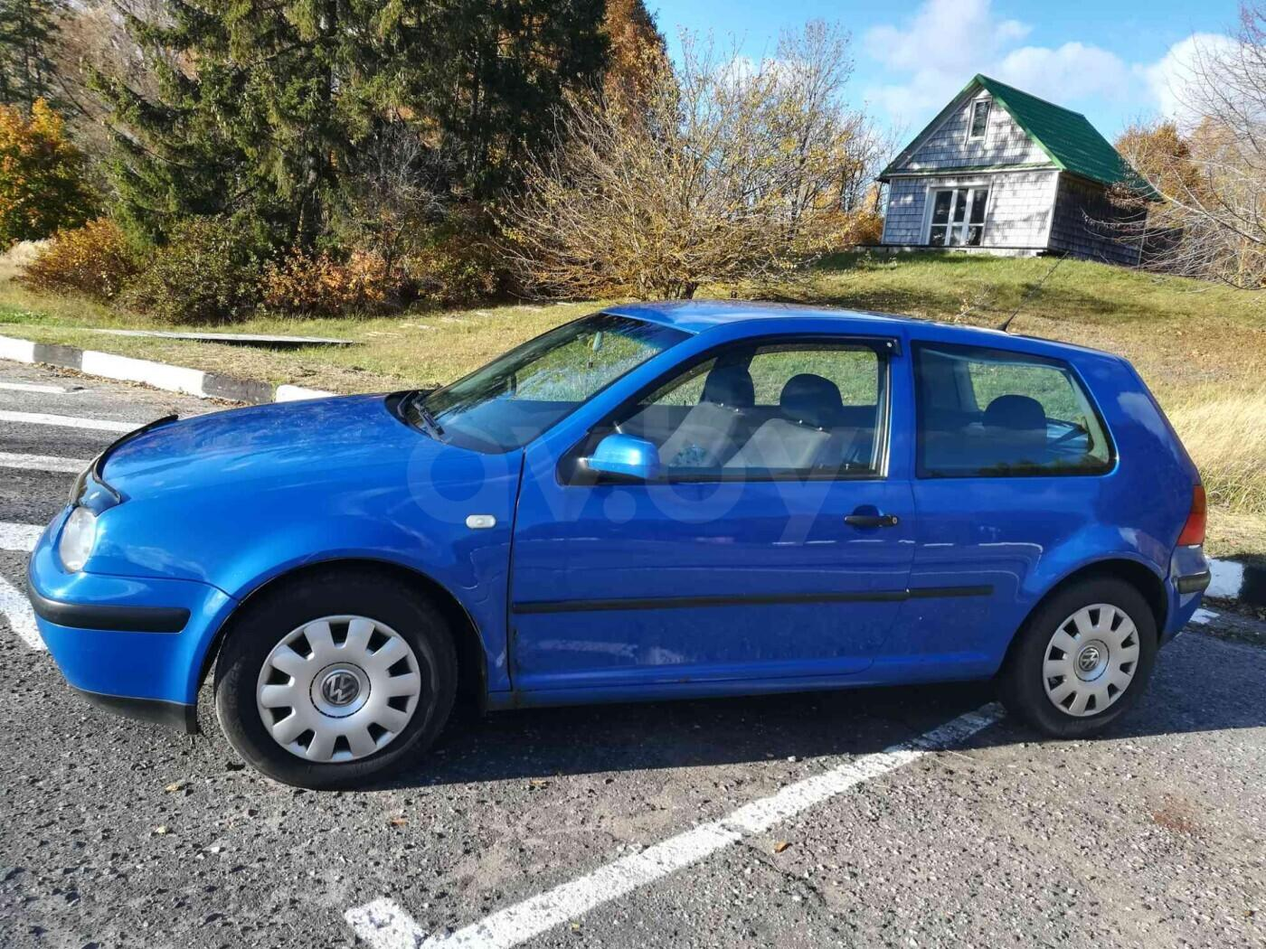Golf_1997-2006: (24, 299, 1212, 788)
